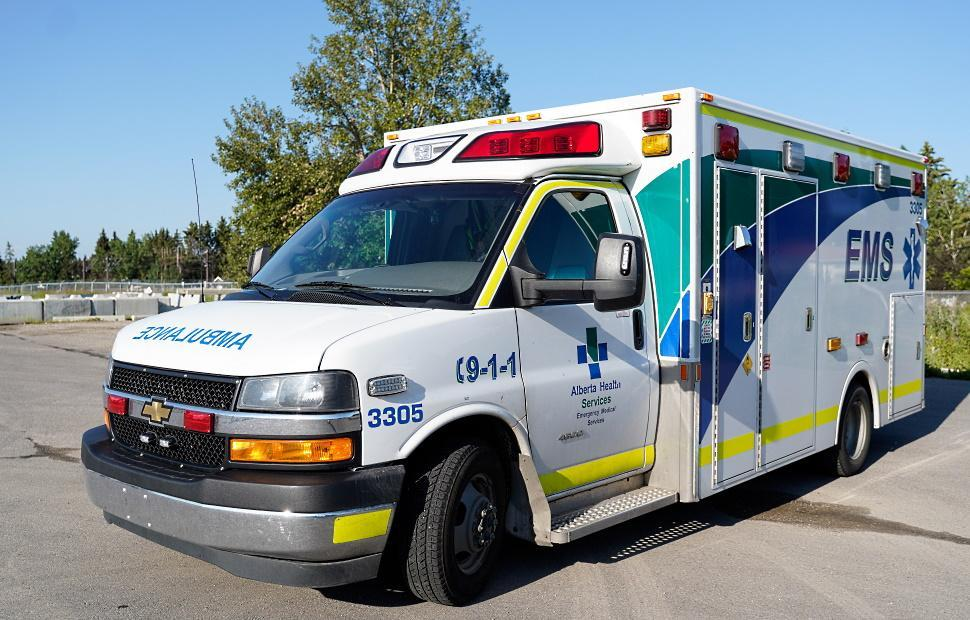Ambulance: (121, 317, 265, 360), (893, 222, 931, 295)
